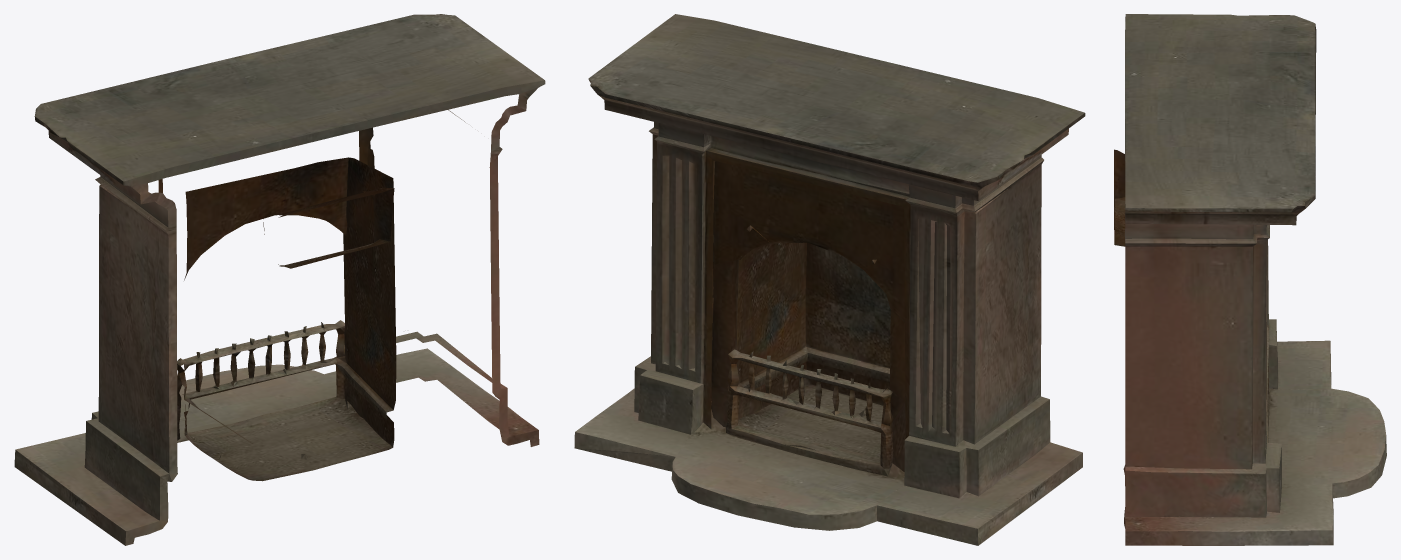
Rendered from fireplace-stone.lod1.glb.
3 renders of one model, left to right at view 1: azimuth 30°, elevation 25°; view 2: azimuth 150°, elevation 25°; view 3: azimuth 270°, elevation 25°, orthographic. The views are drawn at different scales.
Visible parts, largest first — view 1: fireplace-stone; view 2: fireplace-stone; view 3: fireplace-stone.
Part boxes in pixels (x1=…): fireplace-stone: x1=14, y1=14, x2=545, y2=545; fireplace-stone: x1=574, y1=14, x2=1085, y2=545; fireplace-stone: x1=1114, y1=14, x2=1386, y2=545.
Bounding box in the file's own units: 1.38 × 1.15 × 0.8237.
1 material, 1 textured.
